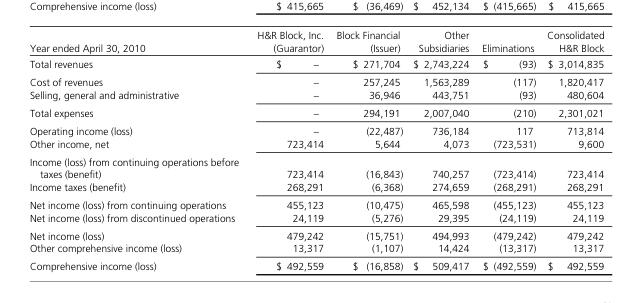table: (28, 28, 603, 271)
table column: (28, 28, 247, 271), (247, 28, 329, 271), (329, 28, 407, 271), (407, 28, 474, 271), (474, 28, 540, 271), (540, 28, 603, 271)
table column header: (28, 28, 603, 55)
table row: (28, 152, 603, 180), (28, 28, 603, 55), (28, 55, 603, 73), (28, 103, 603, 121), (28, 136, 603, 152), (28, 210, 603, 226), (28, 73, 603, 88), (28, 88, 603, 103), (28, 121, 603, 136), (28, 180, 603, 195), (28, 195, 603, 210), (28, 226, 603, 241), (28, 241, 603, 256), (28, 256, 603, 271)
